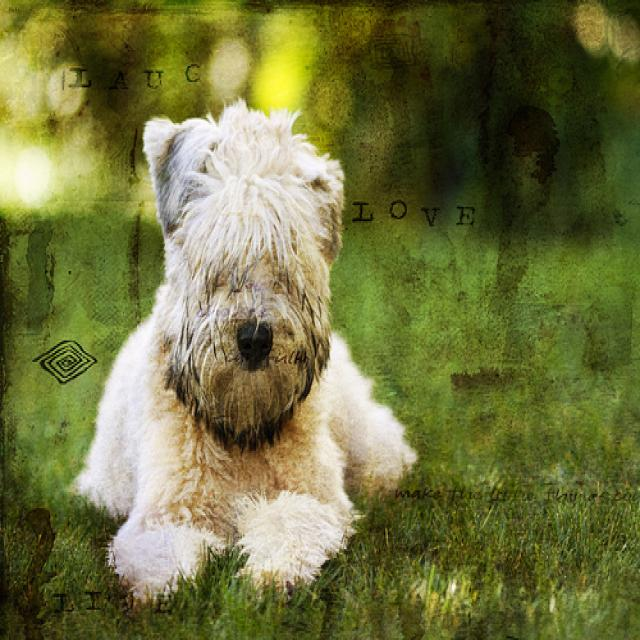dog-wheaten_terrier: (61, 87, 420, 603)
